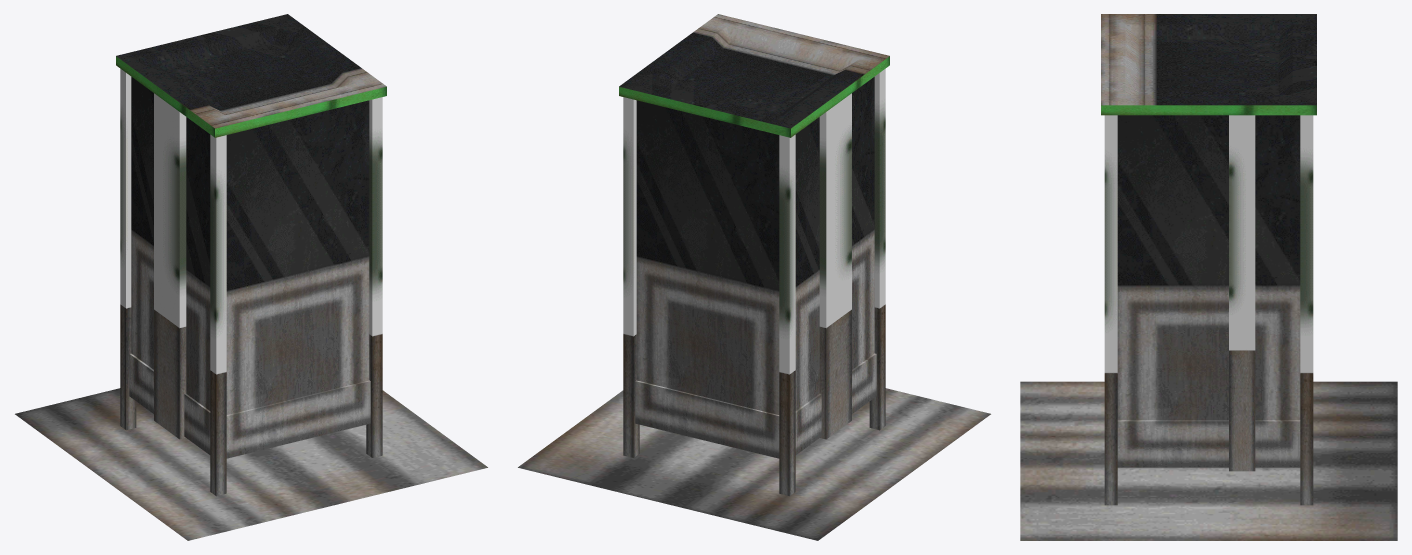
The model's file is farm_item_11.fbx.
3 renders of one model, left to right at view 1: azimuth 30°, elevation 25°; view 2: azimuth 150°, elevation 25°; view 3: azimuth 270°, elevation 25°, orthographic. The views are drawn at different scales.
Visible parts, largest first — view 1: farm_item_11; view 2: farm_item_11; view 3: farm_item_11.
Part boxes in pixels (x1,y1,x2,y2): farm_item_11: [15, 14, 487, 540]; farm_item_11: [518, 14, 990, 540]; farm_item_11: [1020, 14, 1397, 540].
Bounding box in the file's own units: 2.7 × 3.17 × 2.7.
